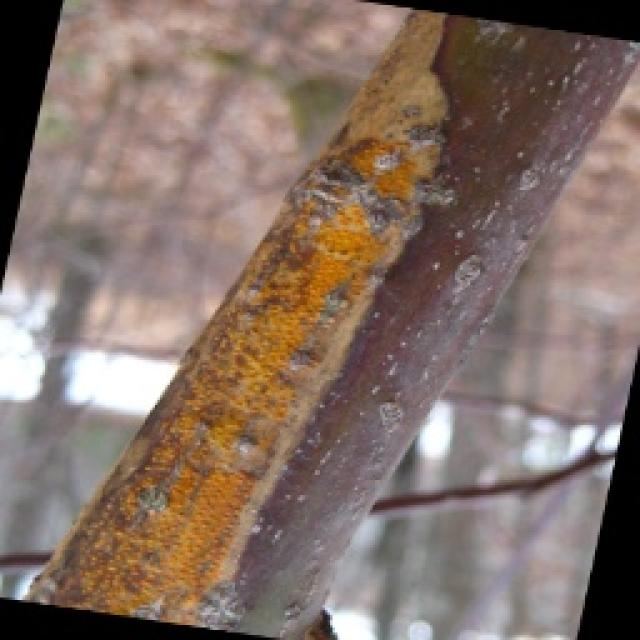Golden_canker: (72, 12, 640, 638)
